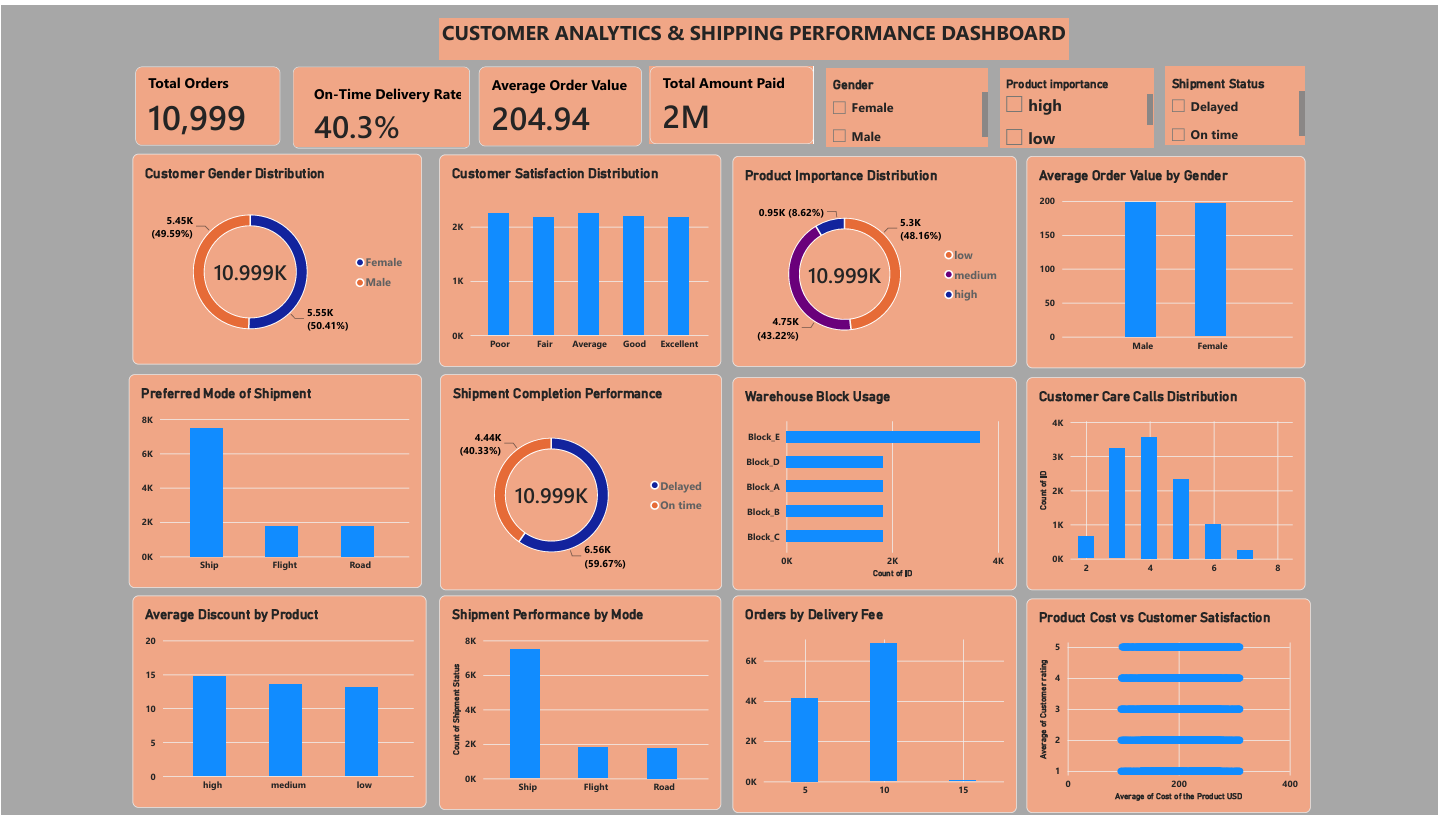

The page's visual inventory and layout, read from the dashboard file:
{"tool":"powerbi","page":{"name":"Page 1","canvas":[1920,1080],"ordinal":0},"visuals":[{"type":"donutChart","title":"Customer Gender Distribution","fields":{"Category":["Customer Analytics.Gender Category"],"Y":["CountNonNull(Customer Analytics.ID)"]},"box":[174.1,196.6,386.2,281],"z":0},{"type":"clusteredColumnChart","title":"Customer Satisfaction Distribution","fields":{"Category":["Rating Order.Rating Category"],"Y":["CountNonNull(Customer Analytics.ID)"]},"box":[582.8,198.3,375.9,282.8],"z":1000},{"type":"donutChart","title":"Product Importance Distribution","fields":{"Category":["Customer Analytics.Product importance"],"Y":["CountNonNull(Customer Analytics.ID)"]},"box":[974.1,200,379.3,281],"z":2000},{"type":"clusteredColumnChart","title":"Preferred Mode of Shipment","fields":{"Category":["Customer Analytics.Mode of Shipment"],"Y":["CountNonNull(Customer Analytics.ID)"]},"box":[169,491.4,391.4,284.5],"z":3000},{"type":"donutChart","title":"Shipment Completion Performance","fields":{"Category":["Customer Analytics.Shipment Status"],"Y":["CountNonNull(Customer Analytics.ID)"]},"box":[584.5,491.4,375.9,287.9],"z":4000},{"type":"clusteredBarChart","title":"Warehouse Block Usage","fields":{"Category":["Customer Analytics.Warehouse block"],"Y":["CountNonNull(Customer Analytics.ID)"]},"box":[974.1,494.8,379.3,284.5],"z":5000},{"type":"clusteredColumnChart","title":"Average Discount by Product","fields":{"Category":["Customer Analytics.Product importance"],"Y":["Avg(Customer Analytics.Discount USD)"]},"box":[174.1,786.2,391.4,282.8],"z":6000},{"type":"columnChart","title":" Shipment Performance by Mode","fields":{"Category":["Customer Analytics.Mode of Shipment"],"Y":["CountNonNull(Customer Analytics.Shipment Status)"]},"box":[582.8,786.2,375.9,286.2],"z":7000},{"type":"clusteredColumnChart","title":"Orders by Delivery Fee","fields":{"Category":["Customer Analytics.Delivery Fee"],"Y":["CountNonNull(Customer Analytics.ID)"]},"box":[974.1,786.2,379.3,289.7],"z":8000},{"type":"clusteredColumnChart","title":"Average Order Value by Gender","fields":{"Category":["Customer Analytics.Gender Category"],"Y":["Avg(Customer Analytics.Amount Paid)"]},"box":[1365.5,200,372.4,282.8],"z":9000},{"type":"clusteredColumnChart","title":"Customer Care Calls Distribution","fields":{"Category":["Customer Analytics.Customer care calls"],"Y":["CountNonNull(Customer Analytics.ID)"]},"box":[1365.5,494.8,372.4,284.5],"z":10000},{"type":"scatterChart","title":"Product Cost vs Customer Satisfaction","fields":{"Category":["Customer Analytics.ID"],"X":["Customer Analytics.Cost of the Product USD"],"Y":["Avg(Customer Analytics.Customer rating)"]},"box":[1365.5,789.7,379.3,286.2],"z":11000},{"type":"textbox","box":[582.8,17.2,839.7,55.2],"z":12000},{"type":"cardVisual","fields":{"Data":["Customer Analytics.Total Orders"]},"box":[177.6,81,193.1,105.2],"z":13000},{"type":"cardVisual","title":"On","fields":{"Data":["Customer Analytics.On Time Rate"]},"box":[387.9,81,236.2,108.6],"z":14000},{"type":"cardVisual","fields":{"Data":["Customer Analytics.Average Order Value"]},"box":[636.2,81,217.2,106.9],"z":15000},{"type":"cardVisual","fields":{"Data":["Sum(Customer Analytics.Total Amount Paid)"]},"box":[863.8,81,219,103.4],"z":16000},{"type":"slicer","fields":{"Values":["Customer Analytics.Gender Category"]},"box":[1100,82.8,215.5,105.2],"z":17000},{"type":"slicer","fields":{"Values":["Customer Analytics.Product importance"]},"box":[1331,84.5,205.2,105.2],"z":18000},{"type":"slicer","fields":{"Values":["Customer Analytics.Shipment Status"]},"box":[1551.7,81,186.2,105.2],"z":19000}]}

Visuals, with their boxes in screenshot pixels (x1, y1, x2, y2), scaled from the page's 1920x1080 canvas onto the 1438x818 screenshot:
"Customer Gender Distribution" donutChart: x1=130, y1=149, x2=420, y2=362
"Customer Satisfaction Distribution" clusteredColumnChart: x1=436, y1=150, x2=718, y2=364
"Product Importance Distribution" donutChart: x1=730, y1=151, x2=1014, y2=364
"Preferred Mode of Shipment" clusteredColumnChart: x1=127, y1=372, x2=420, y2=588
"Shipment Completion Performance" donutChart: x1=438, y1=372, x2=719, y2=590
"Warehouse Block Usage" clusteredBarChart: x1=730, y1=375, x2=1014, y2=590
"Average Discount by Product" clusteredColumnChart: x1=130, y1=595, x2=424, y2=810
" Shipment Performance by Mode" columnChart: x1=436, y1=595, x2=718, y2=812
"Orders by Delivery Fee" clusteredColumnChart: x1=730, y1=595, x2=1014, y2=815
"Average Order Value by Gender" clusteredColumnChart: x1=1023, y1=151, x2=1302, y2=366
"Customer Care Calls Distribution" clusteredColumnChart: x1=1023, y1=375, x2=1302, y2=590
"Product Cost vs Customer Satisfaction" scatterChart: x1=1023, y1=598, x2=1307, y2=815
textbox: x1=436, y1=13, x2=1065, y2=55
cardVisual - Customer Analytics.Total Orders: x1=133, y1=61, x2=278, y2=141
"On" cardVisual: x1=291, y1=61, x2=467, y2=144
cardVisual - Customer Analytics.Average Order Value: x1=476, y1=61, x2=639, y2=142
cardVisual - Sum(Customer Analytics.Total Amount Paid): x1=647, y1=61, x2=811, y2=140
slicer - Customer Analytics.Gender Category: x1=824, y1=63, x2=985, y2=142
slicer - Customer Analytics.Product importance: x1=997, y1=64, x2=1151, y2=144
slicer - Customer Analytics.Shipment Status: x1=1162, y1=61, x2=1302, y2=141
